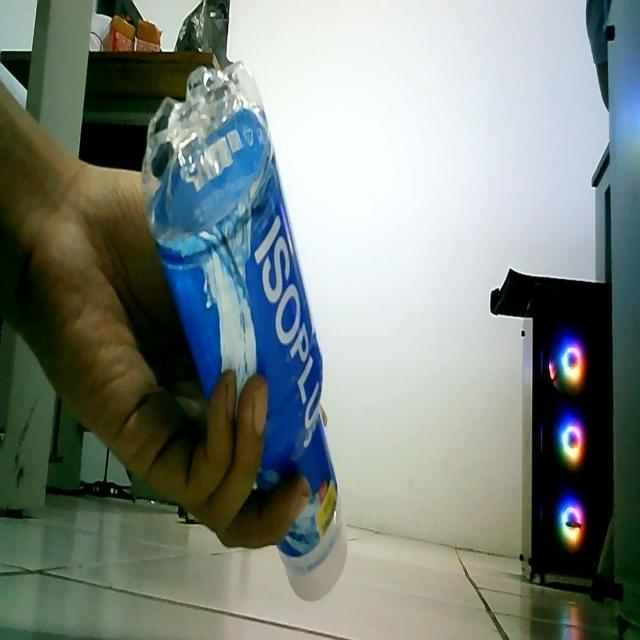botol: (120, 28, 369, 615)
